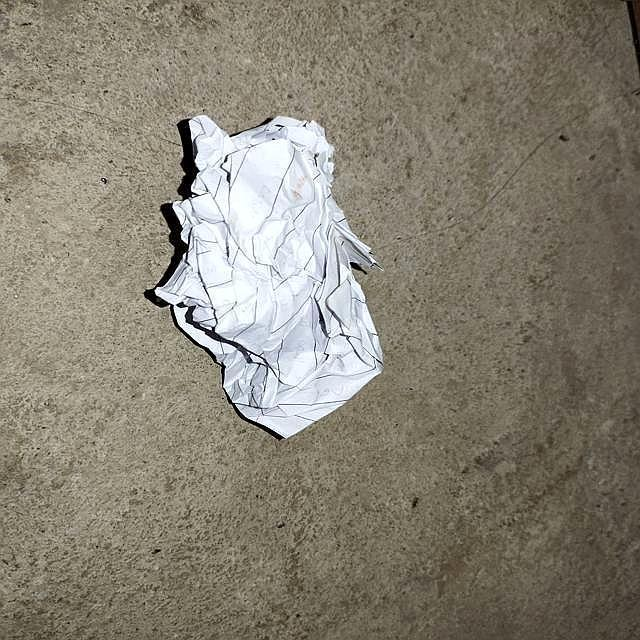Biodegradable: (143, 115, 389, 441)
